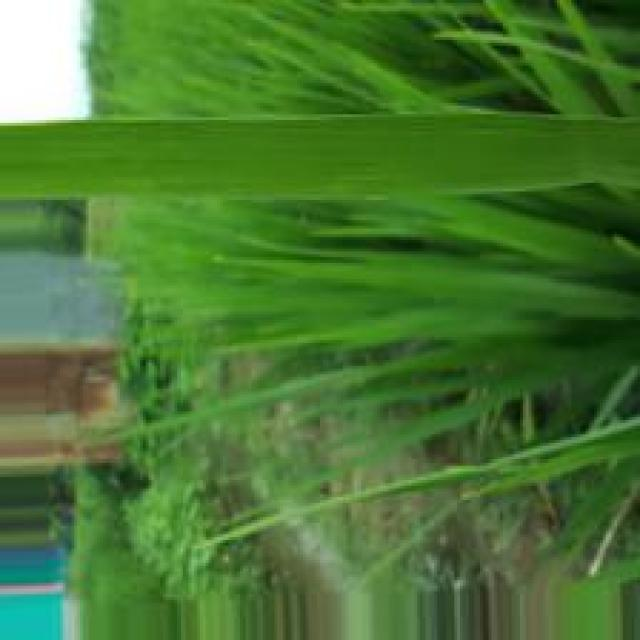HealthyLeaf: (4, 116, 563, 195)
